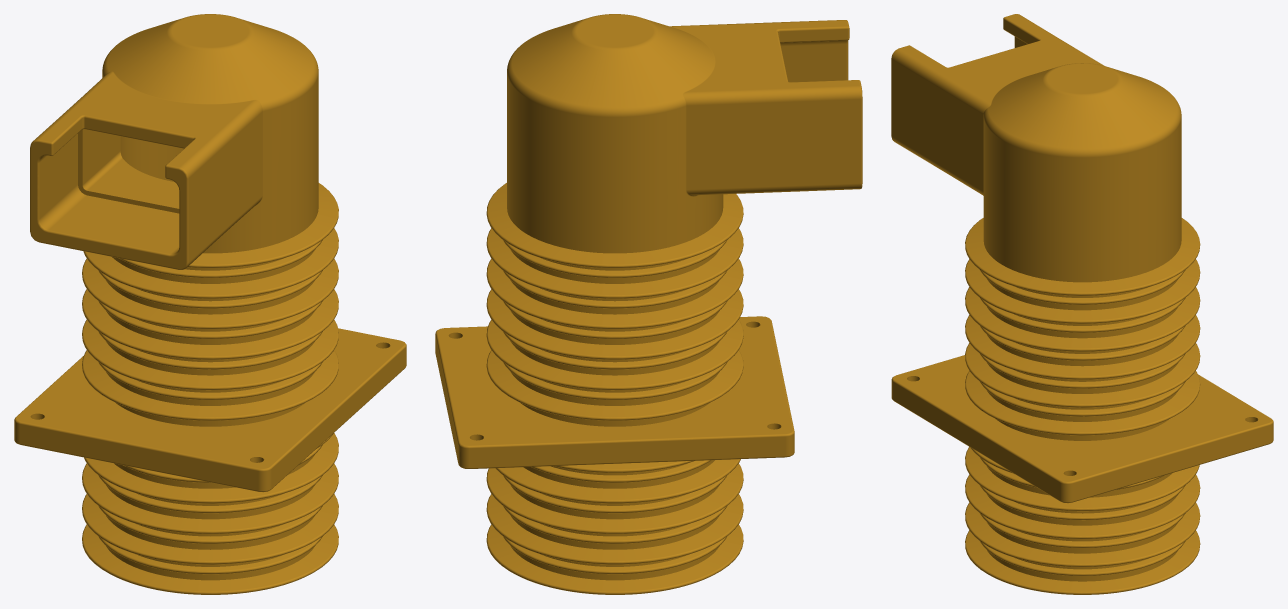
Rendered from 04.18_izolyator-prokhodnoy-uglovoy-ipu-35-235x290.glb.
3 views of the same model, side by side, from view 1: azimuth 30°, elevation 25°; view 2: azimuth 150°, elevation 25°; view 3: azimuth 270°, elevation 25° (orthographic). The views are drawn at different scales.
Parts seen in each view (by area): view 1: 04.18_izolyator-prokhodnoy-uglovoy-ipu-35-235x290; view 2: 04.18_izolyator-prokhodnoy-uglovoy-ipu-35-235x290; view 3: 04.18_izolyator-prokhodnoy-uglovoy-ipu-35-235x290.
Boxes of the visible parts, x1,y1,x2,y2 form: 04.18_izolyator-prokhodnoy-uglovoy-ipu-35-235x290: (14, 14, 406, 594); 04.18_izolyator-prokhodnoy-uglovoy-ipu-35-235x290: (435, 14, 862, 594); 04.18_izolyator-prokhodnoy-uglovoy-ipu-35-235x290: (891, 14, 1273, 594).
Size of the model in its own units: 0.4489 by 0.55 by 0.4058.
